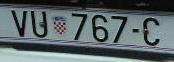-: (132, 28, 140, 34)
6: (92, 14, 108, 43)
7: (111, 15, 128, 43), (70, 13, 87, 40)
C: (143, 17, 160, 46)
U: (30, 11, 48, 38)
V: (10, 9, 26, 38)
